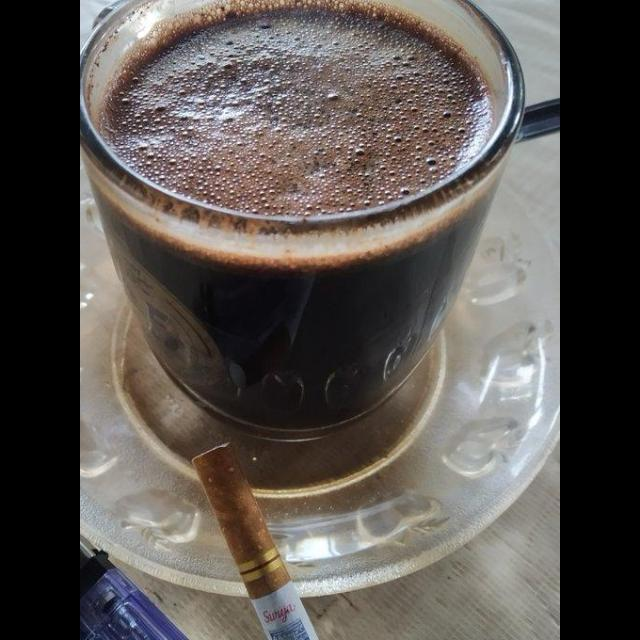rokok: (185, 436, 323, 640)
